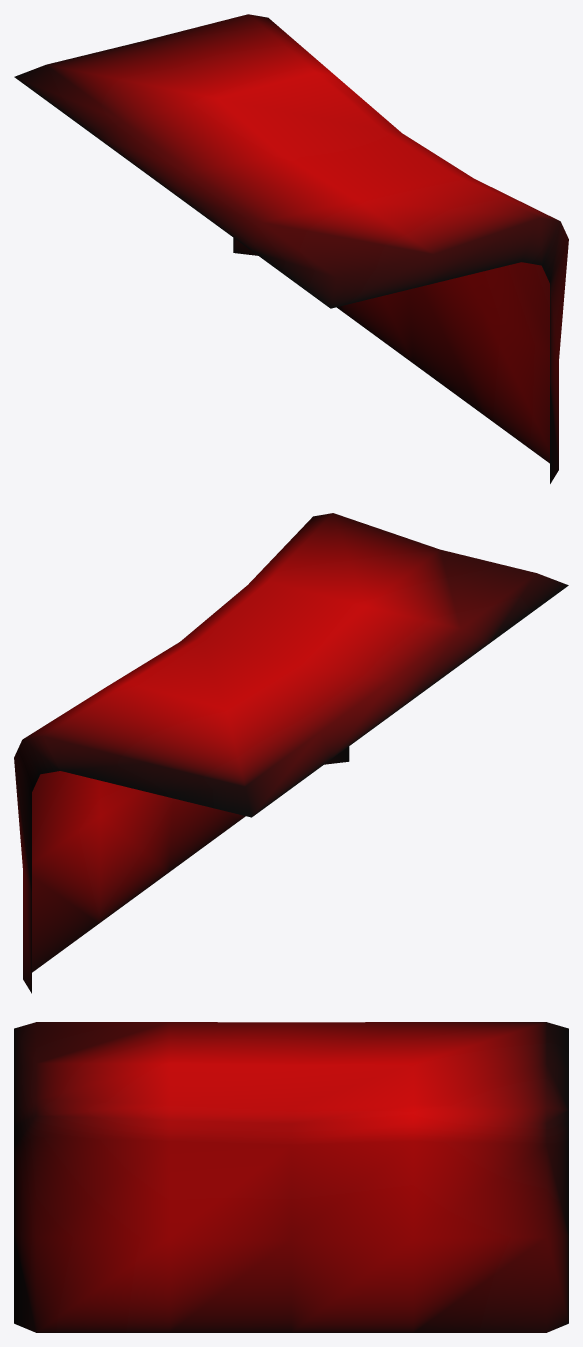
Rendered from curb_0.5_a.fbx.
The picture shows the model from 3 angles, top to bottom: view 1: azimuth 30°, elevation 25°; view 2: azimuth 150°, elevation 25°; view 3: azimuth 270°, elevation 25°; orthographic projection. The views are drawn at different scales.
Visible parts, largest first — view 1: curb_0.5_a; view 2: curb_0.5_a; view 3: curb_0.5_a.
Part boxes in pixels (left/top/right/bottom): curb_0.5_a: left=14, top=14, right=568, bottom=483; curb_0.5_a: left=14, top=513, right=568, bottom=993; curb_0.5_a: left=14, top=1022, right=568, bottom=1332.
Size of the model in its own units: 0.2289 by 0.2237 by 0.5.
